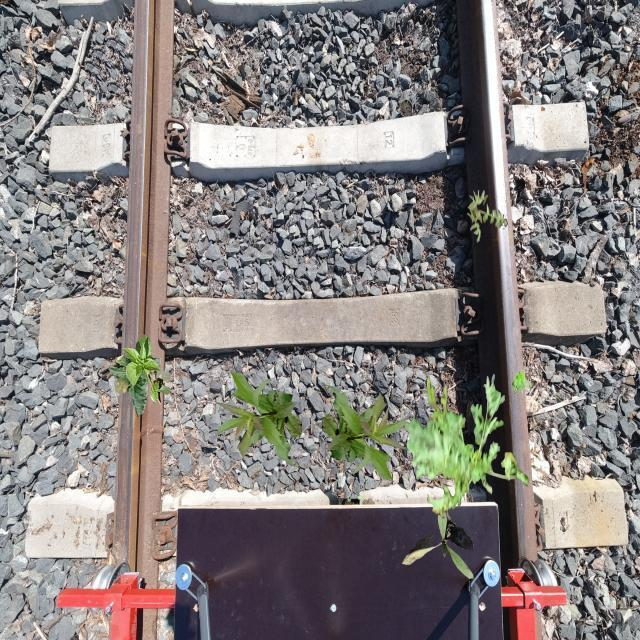Plant: (404, 374, 529, 521), (214, 370, 302, 468), (322, 384, 410, 482), (402, 505, 474, 580), (108, 355, 172, 417), (122, 334, 170, 405), (467, 189, 508, 243), (512, 370, 532, 395)
